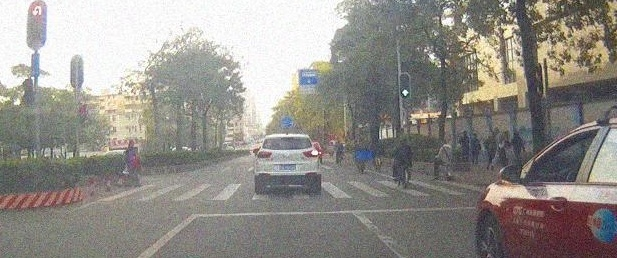L_light: (257, 151, 272, 159)
R_light: (303, 149, 319, 158)
T_light: (281, 137, 293, 139)
day-right: (254, 134, 319, 194)
